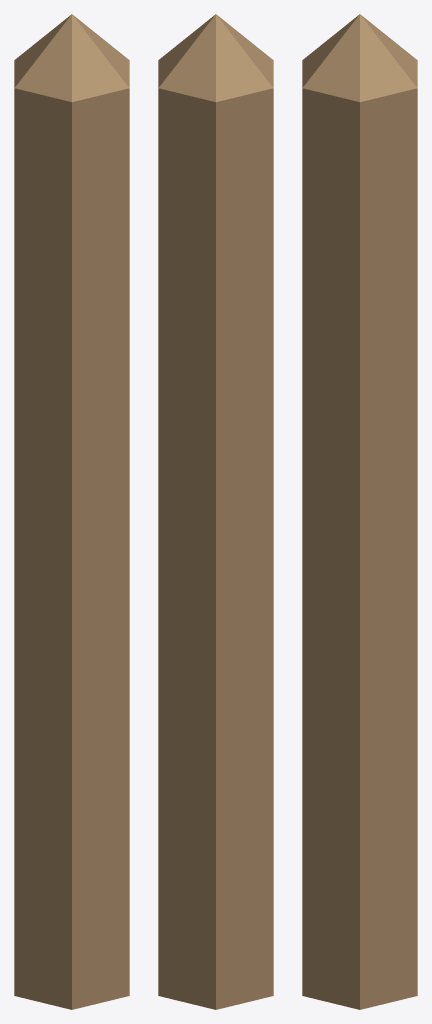
File: fence_end_post_02.glb
3 views of the same model, side by side, from view 1: azimuth 90°, elevation 25°; view 2: azimuth 210°, elevation 25°; view 3: azimuth 270°, elevation 25° (orthographic).
Visible parts, largest first — view 1: Fence_end_post_02; view 2: Fence_end_post_02; view 3: Fence_end_post_02.
Part boxes in pixels (<box>): Fence_end_post_02: <box>14,14,129,1009</box>; Fence_end_post_02: <box>158,14,273,1009</box>; Fence_end_post_02: <box>302,14,417,1009</box>.
Bounding box in the file's own units: 0.14 × 1.13 × 0.1212.
